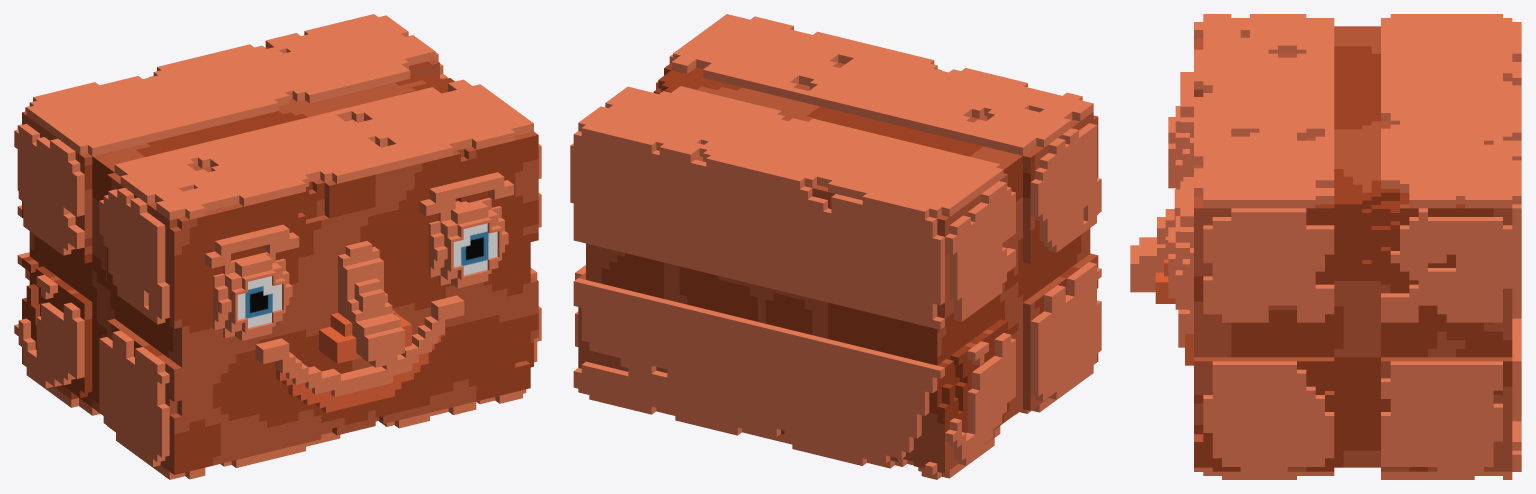
File: tititiSahur.fbx
The picture shows the model from 3 angles, left to right: view 1: azimuth 30°, elevation 25°; view 2: azimuth 150°, elevation 25°; view 3: azimuth 270°, elevation 25°; orthographic projection. The views are drawn at different scales.
Visible parts, largest first — view 1: tititiSahur; view 2: tititiSahur; view 3: tititiSahur.
Boxes of the visible parts, x1,y1,x2,y2 form: tititiSahur: [14, 14, 541, 479]; tititiSahur: [570, 14, 1101, 479]; tititiSahur: [1130, 14, 1521, 479].
Size of the model in its own units: 517 by 348 by 441.
